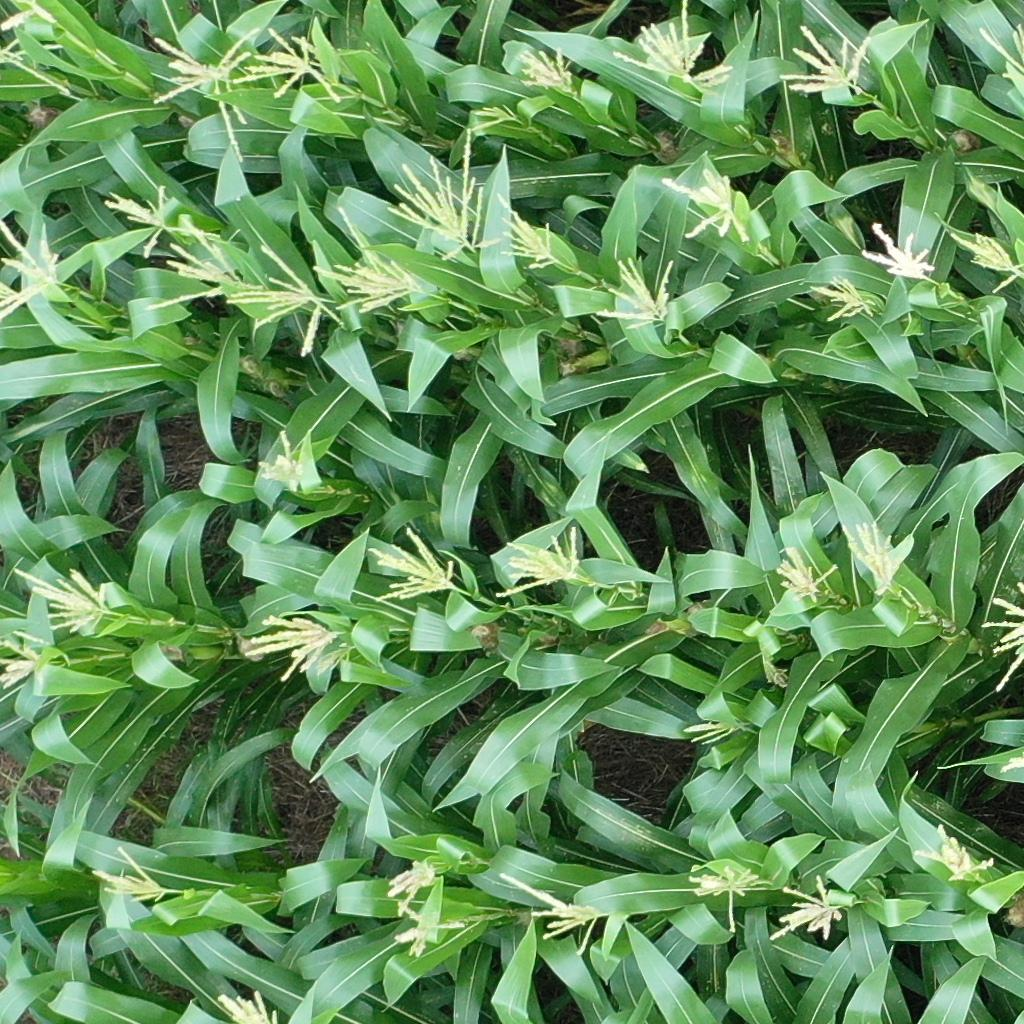Tassel: (147, 28, 264, 164), (382, 125, 497, 263), (228, 240, 339, 362), (311, 197, 421, 320), (611, 1, 737, 91), (236, 18, 343, 108), (496, 872, 607, 958), (363, 520, 470, 606), (1, 215, 77, 325), (777, 21, 874, 101), (492, 527, 595, 602), (594, 254, 684, 338), (15, 559, 109, 638), (662, 165, 756, 243), (246, 615, 342, 687), (143, 235, 233, 311), (1, 1, 74, 92), (102, 177, 181, 258), (912, 820, 1002, 889), (494, 194, 570, 275), (839, 506, 906, 597), (682, 861, 765, 933), (974, 573, 1024, 691), (771, 876, 847, 948), (92, 842, 176, 907), (859, 221, 937, 284), (948, 229, 1024, 293), (389, 898, 470, 955), (770, 546, 841, 606), (975, 21, 1024, 103), (376, 860, 443, 914), (519, 45, 582, 98), (810, 274, 874, 326), (256, 431, 305, 495), (1, 636, 53, 690), (207, 990, 286, 1024), (683, 720, 741, 759), (461, 102, 519, 137), (992, 751, 1024, 777)
